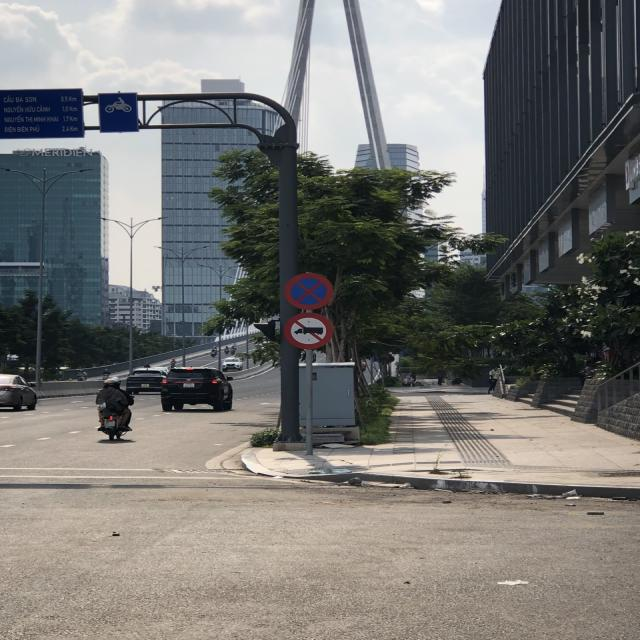Bien bao cam dung xe va do xe: (274, 269, 343, 312)
Bien bao cam xe so-mi ro-mooc: (274, 312, 340, 358)
